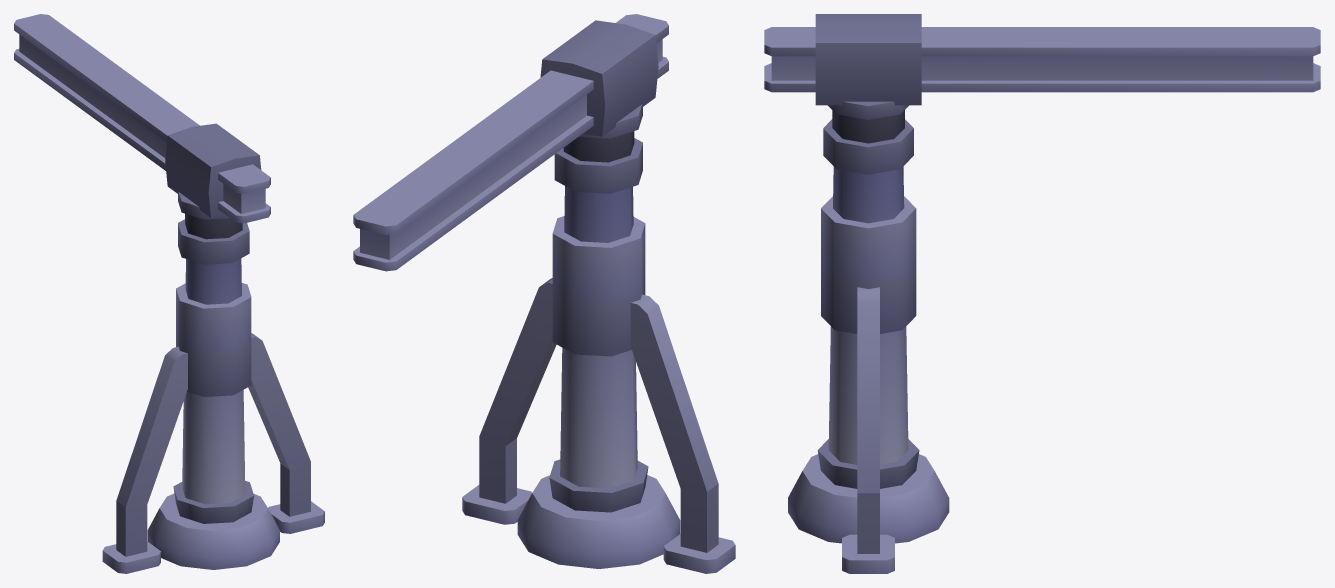
Rendered from crane.fbx.
3 views of the same model, side by side, from view 1: azimuth 30°, elevation 25°; view 2: azimuth 150°, elevation 25°; view 3: azimuth 270°, elevation 25° (orthographic). The views are drawn at different scales.
Visible parts, largest first — view 1: crane, arm; view 2: crane, arm; view 3: crane, arm.
Part boxes in pixels (x1=…): crane: x1=102, y1=213, x2=324, y2=573; arm: x1=14, y1=14, x2=270, y2=223; crane: x1=462, y1=131, x2=735, y2=573; arm: x1=353, y1=14, x2=668, y2=271; crane: x1=788, y1=110, x2=949, y2=573; arm: x1=764, y1=14, x2=1320, y2=119.
Bounding box in the file's own units: 193 × 355 × 368.
Materials: 1 (1 with a texture image).
